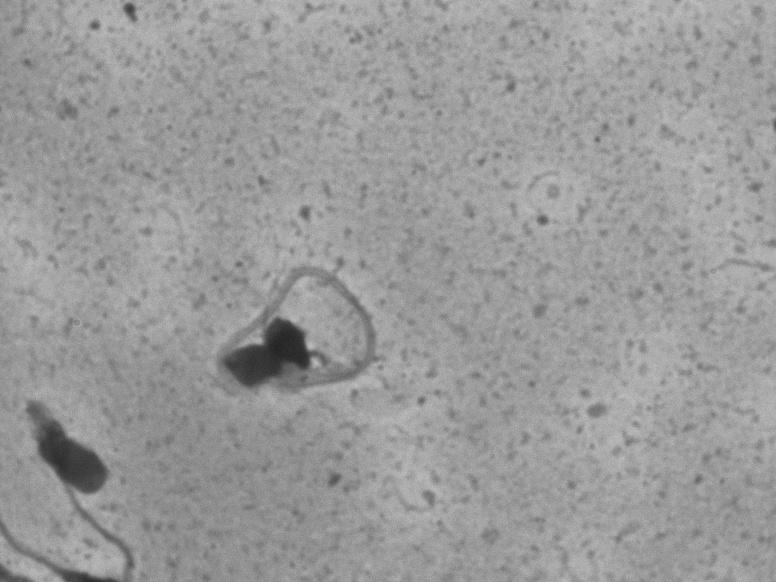Abnormal: (206, 222, 432, 446)
